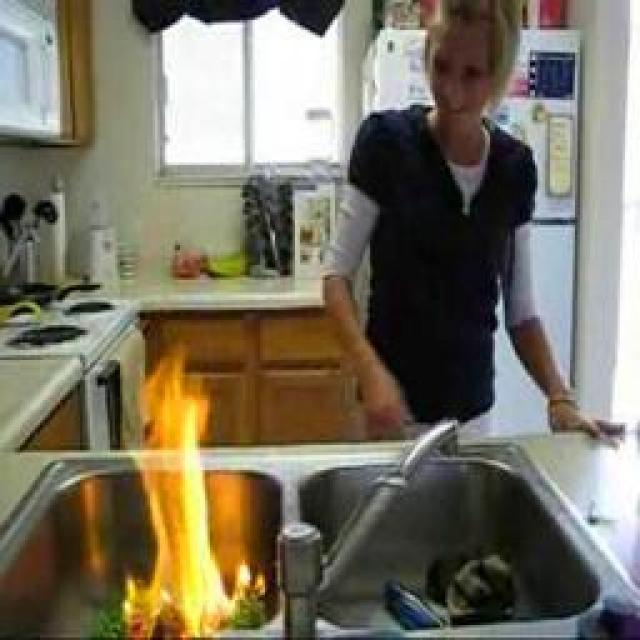Fire: (124, 341, 252, 636)
